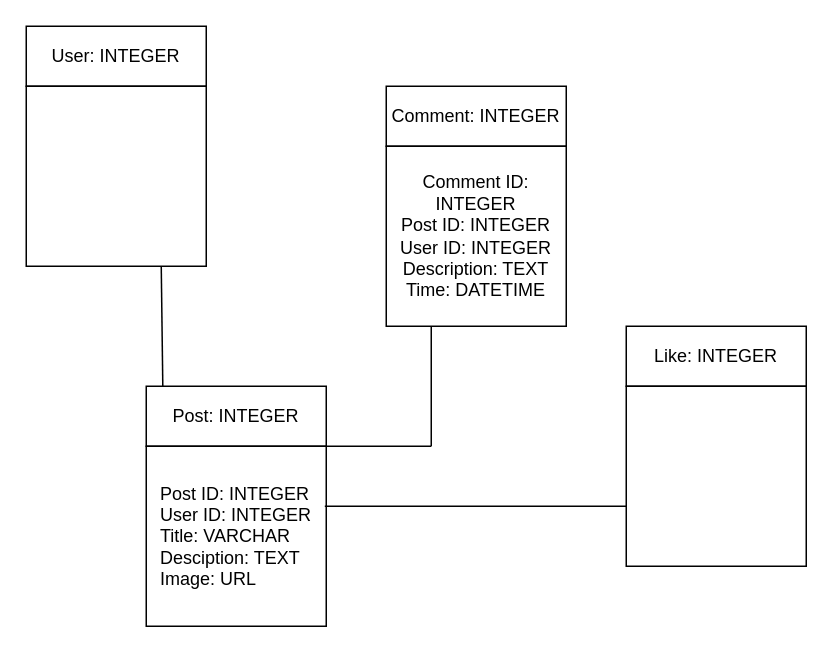
Some shapes in this 833 by 653 pixel diagram are drawn without their labels. The centre of each missing label's shape, as x and y in pixels:
"Post ID: INTEGER User ID: INTEGER" goes at point (715, 475).
"User ID: INTEGER Name: VARCHAR Gender: CHAR(1) Age: INTEGER" goes at point (115, 175).
